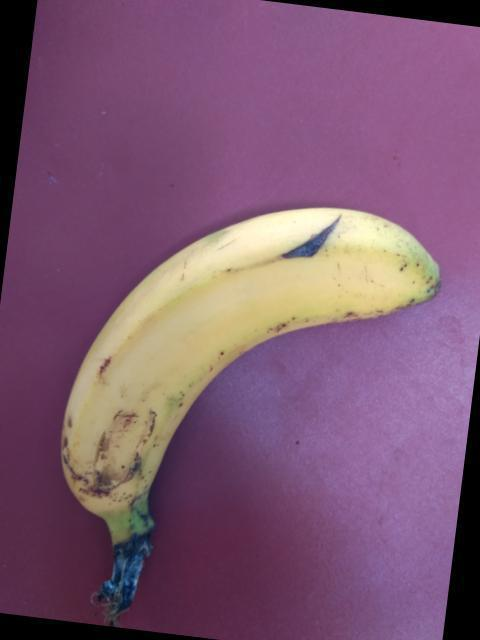ripe: (13, 208, 458, 555)
